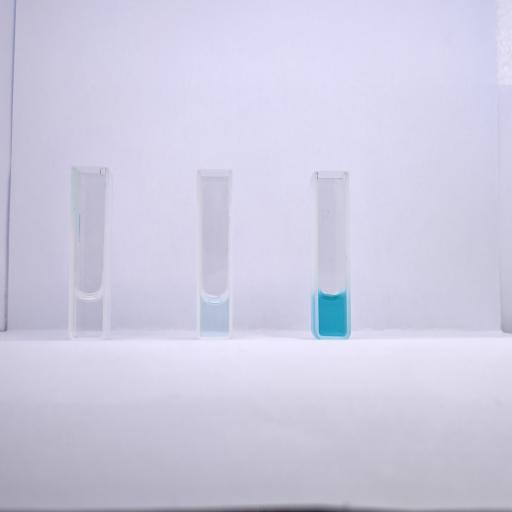cuvette: (67, 164, 111, 344), (194, 166, 235, 342), (314, 167, 352, 343)
liquid: (75, 291, 102, 337), (200, 294, 229, 336), (319, 292, 346, 336)
